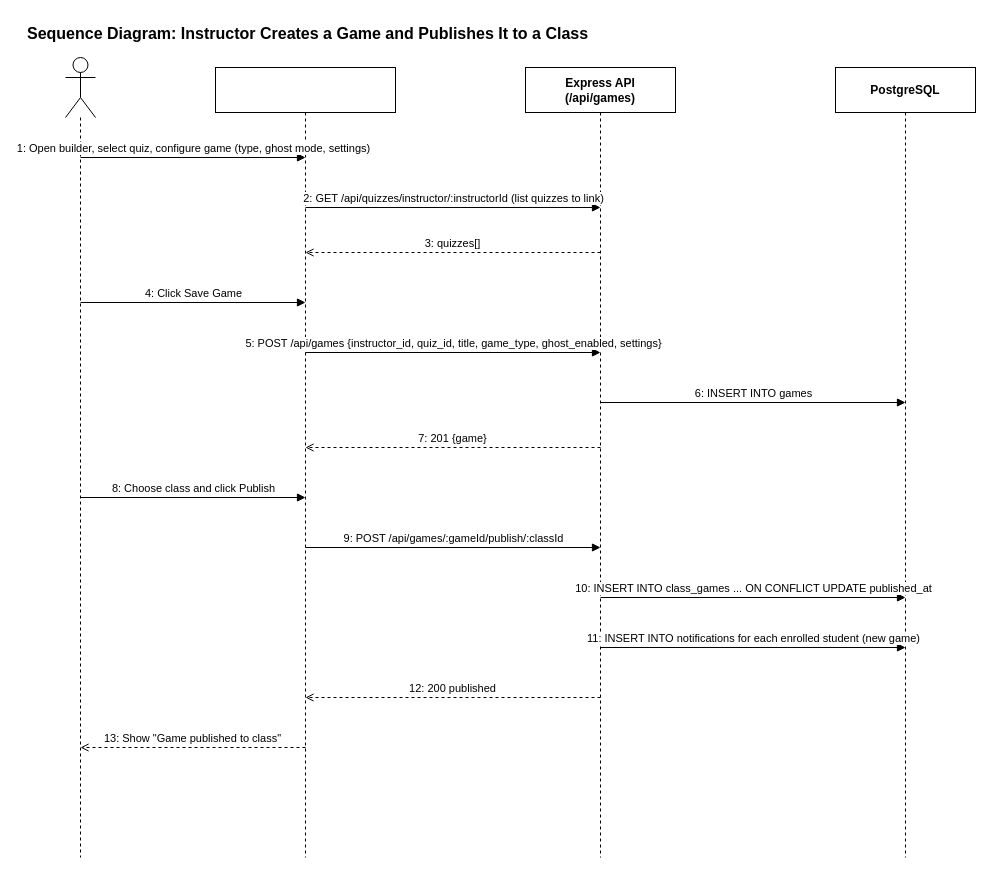
Some shapes in this 993 by 876 pixel diagram are drawn without their labels. Here are the shapes that lost their labels. From the top down, the centre of each, then its label:
At point (80, 87): "Instructor".
At point (305, 89): "Game Builder (MazeGameQuiz.tsx etc.)".
